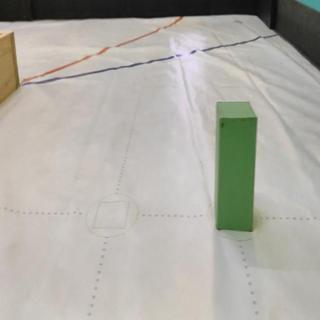greenbox: (215, 101, 260, 231)
